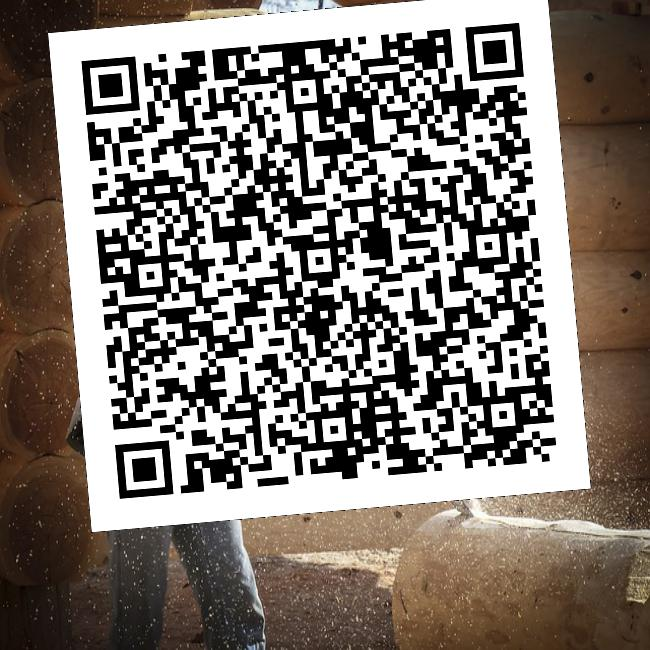qr_code: (48, 0, 590, 537)
